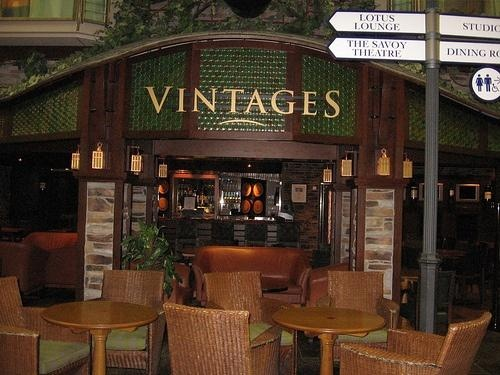chair: (205, 271, 296, 375), (341, 312, 491, 374), (2, 277, 93, 375), (164, 304, 281, 375), (316, 271, 401, 368), (93, 271, 164, 375)
pottedplant: (121, 218, 185, 300)
sofa: (192, 245, 313, 307)
